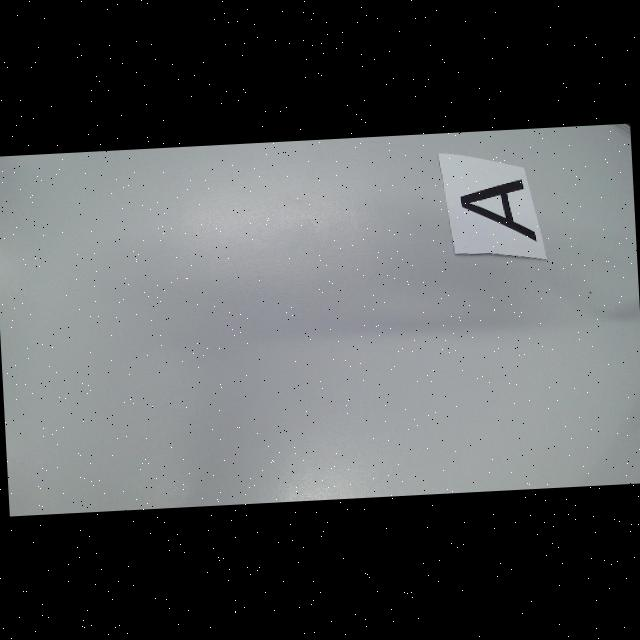FAKE: (460, 178, 538, 244)
